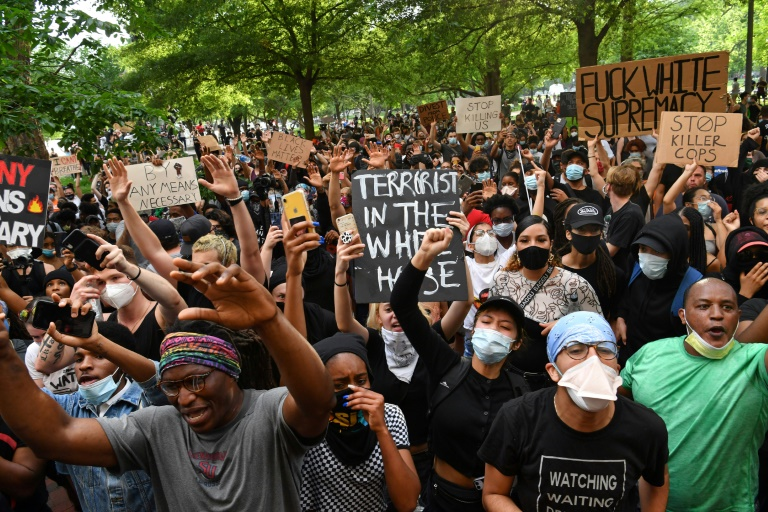mask_weared_incorrect: (682, 289, 742, 356), (70, 340, 128, 398), (380, 294, 411, 344)
with_mask: (548, 336, 619, 409), (468, 313, 519, 365), (91, 261, 143, 310), (631, 236, 672, 286), (516, 223, 551, 272), (567, 217, 604, 254), (471, 226, 499, 257)
without_mask: (158, 353, 237, 434), (40, 279, 73, 298)
